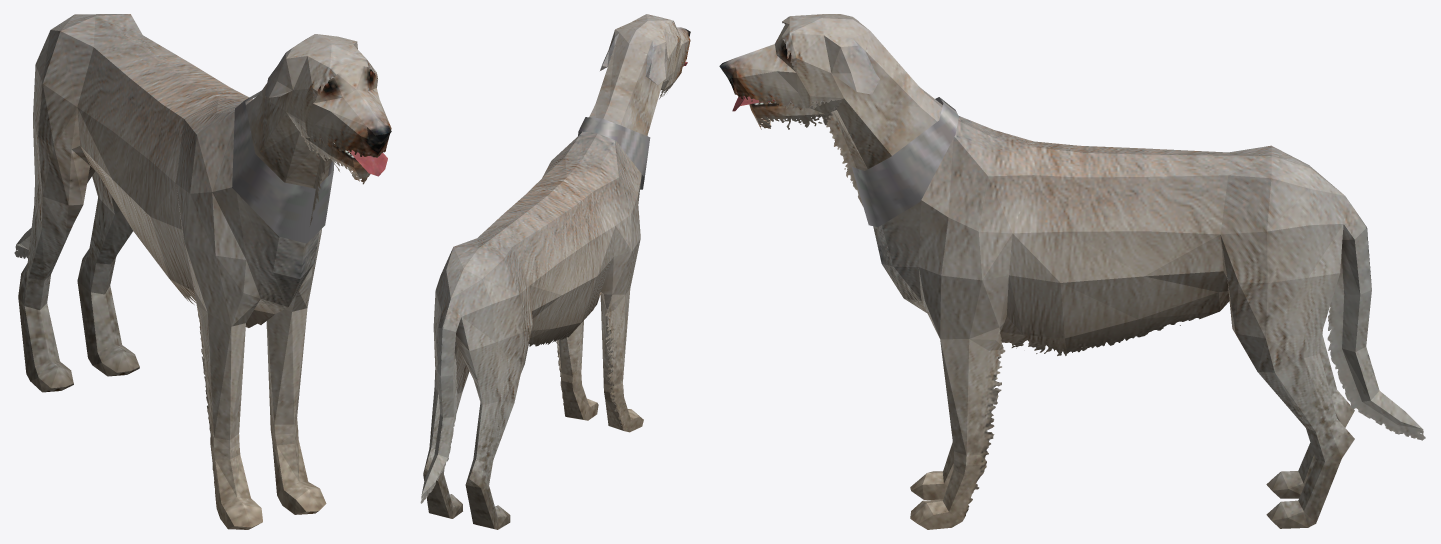
Rendered from dog.glb.
3 views of the same model, side by side, from view 1: azimuth 30°, elevation 25°; view 2: azimuth 150°, elevation 25°; view 3: azimuth 270°, elevation 25° (orthographic). The views are drawn at different scales.
Bounding box in the file's own units: 0.6735 × 2.63 × 3.45.
2 materials, 2 textured.
